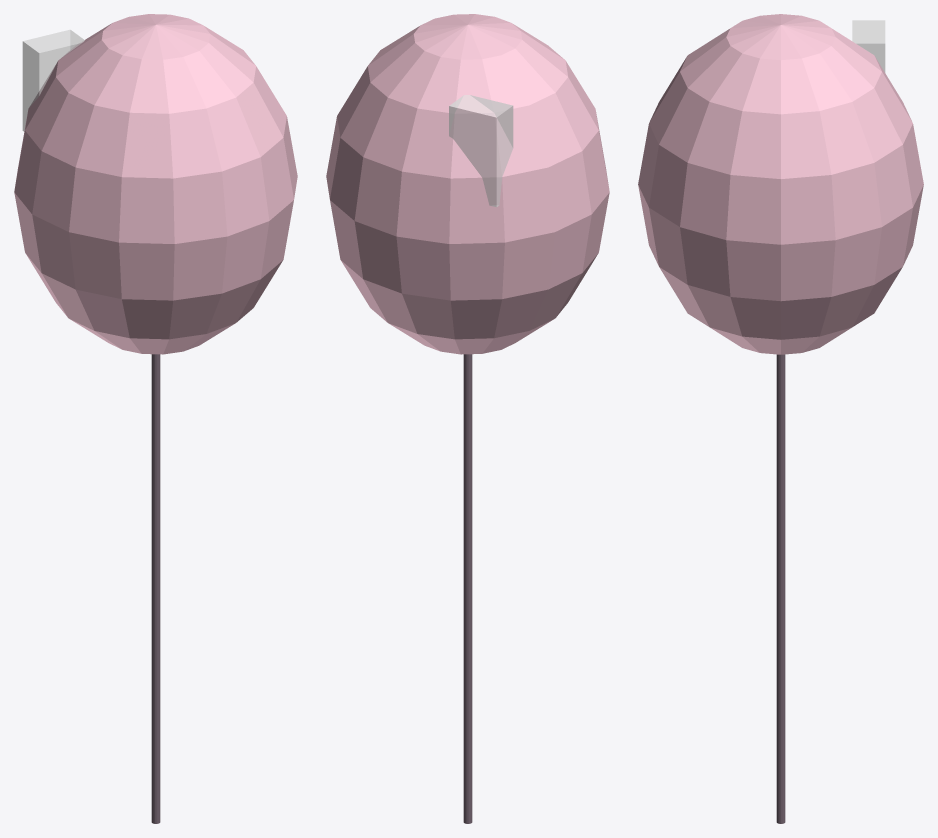
Rendered from Balloon.glb.
3 views of the same model, side by side, from view 1: azimuth 30°, elevation 25°; view 2: azimuth 150°, elevation 25°; view 3: azimuth 270°, elevation 25° (orthographic).
Visible parts, largest first — view 1: Balloon_1, Balloon_0, Balloon_2; view 2: Balloon_1, Balloon_0, Balloon_2; view 3: Balloon_1, Balloon_0, Balloon_2.
Boxes of the visible parts, bbox=[...] form: Balloon_1: bbox=[14, 14, 297, 354]; Balloon_0: bbox=[151, 354, 160, 823]; Balloon_2: bbox=[22, 29, 84, 131]; Balloon_1: bbox=[326, 14, 609, 354]; Balloon_0: bbox=[463, 354, 472, 823]; Balloon_2: bbox=[449, 95, 513, 207]; Balloon_1: bbox=[638, 14, 923, 354]; Balloon_0: bbox=[776, 354, 785, 823]; Balloon_2: bbox=[852, 20, 885, 72].
Size of the model in its own units: 2.6 by 8 by 2.6.
